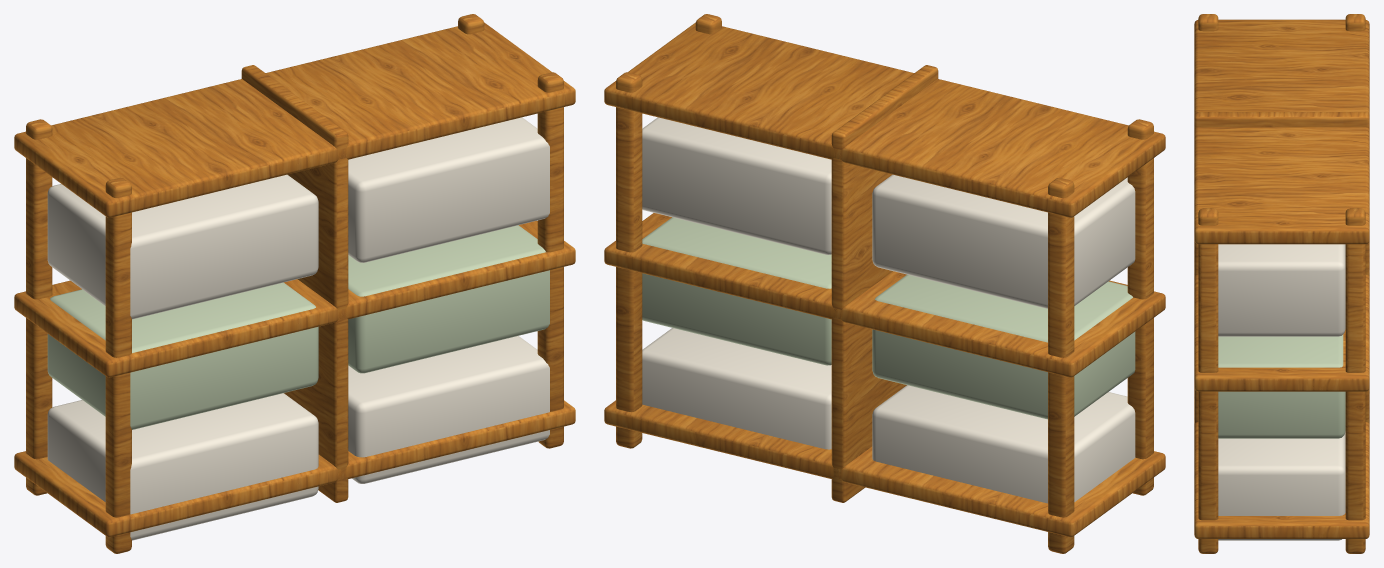
Rendered from toy-organizer.glb.
3 views of the same model, side by side, from view 1: azimuth 30°, elevation 25°; view 2: azimuth 150°, elevation 25°; view 3: azimuth 270°, elevation 25° (orthographic). The views are drawn at different scales.
Parts seen in each view (by area): view 1: toy-organizer; view 2: toy-organizer; view 3: toy-organizer.
Part boxes in pixels (box(x1,y1,x2,y2)): toy-organizer: box(14, 14, 575, 553); toy-organizer: box(604, 14, 1165, 553); toy-organizer: box(1194, 14, 1369, 553).
Size of the model in its own units: 1 by 0.75 by 0.35.
Materials: 3 (1 with a texture image).
